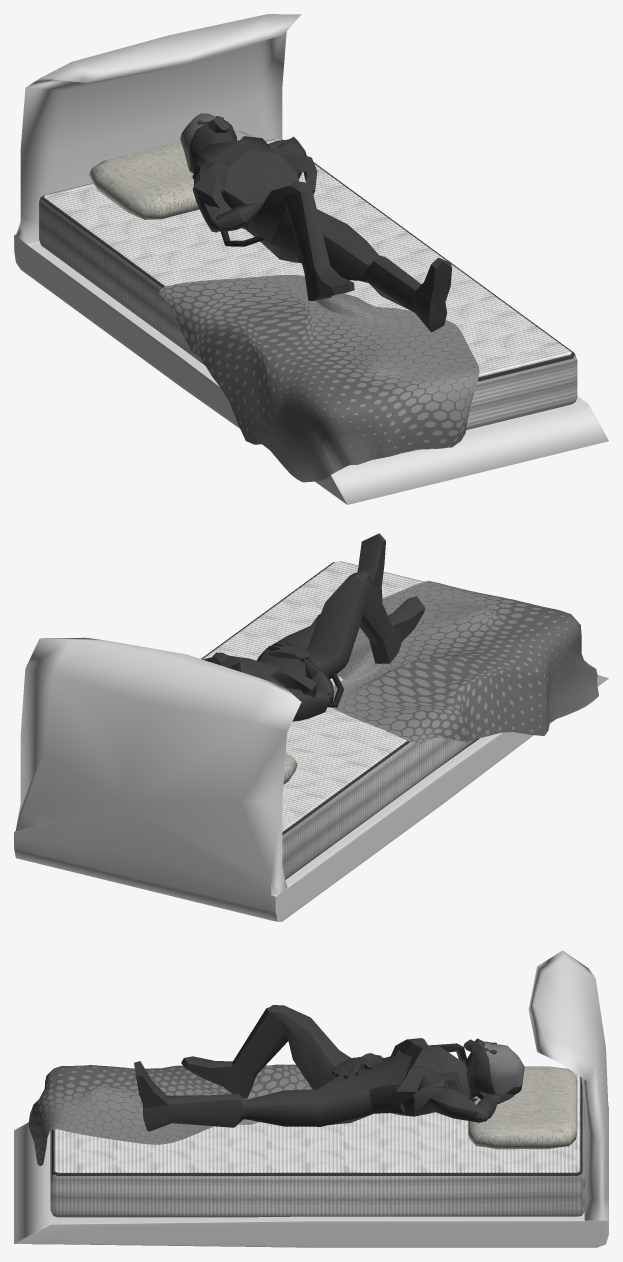
File: object_bed.fbx
3 renders of one model, top to bottom at view 1: azimuth 30°, elevation 25°; view 2: azimuth 150°, elevation 25°; view 3: azimuth 270°, elevation 25°, orthographic. The views are drawn at different scales.
Visible parts, largest first — view 1: bed_base, pPlane1, bed_mattress, cyborg_body, bed_pillow; view 2: bed_base, pPlane1, bed_mattress, cyborg_body; view 3: bed_mattress, bed_base, cyborg_body, pPlane1, bed_pillow.
Part boxes in pixels (x1,y1,x2,y2): bed_base: (14,14,608,504); pPlane1: (159,275,479,482); bed_mattress: (39,138,577,429); cyborg_body: (180,113,451,332); bed_pillow: (89,131,254,219); bed_base: (14,637,608,921); pPlane1: (331,580,598,744); bed_mattress: (201,561,479,879); cyborg_body: (202,533,425,721); bed_mattress: (50,1069,584,1217); bed_base: (14,950,608,1247); cyborg_body: (134,1005,524,1131); pPlane1: (28,1064,311,1165); bed_pillow: (468,1066,577,1149).
Bounding box in the file's own units: 1.51 × 1.11 × 3.11.
Materials: 8 (5 with a texture image).
